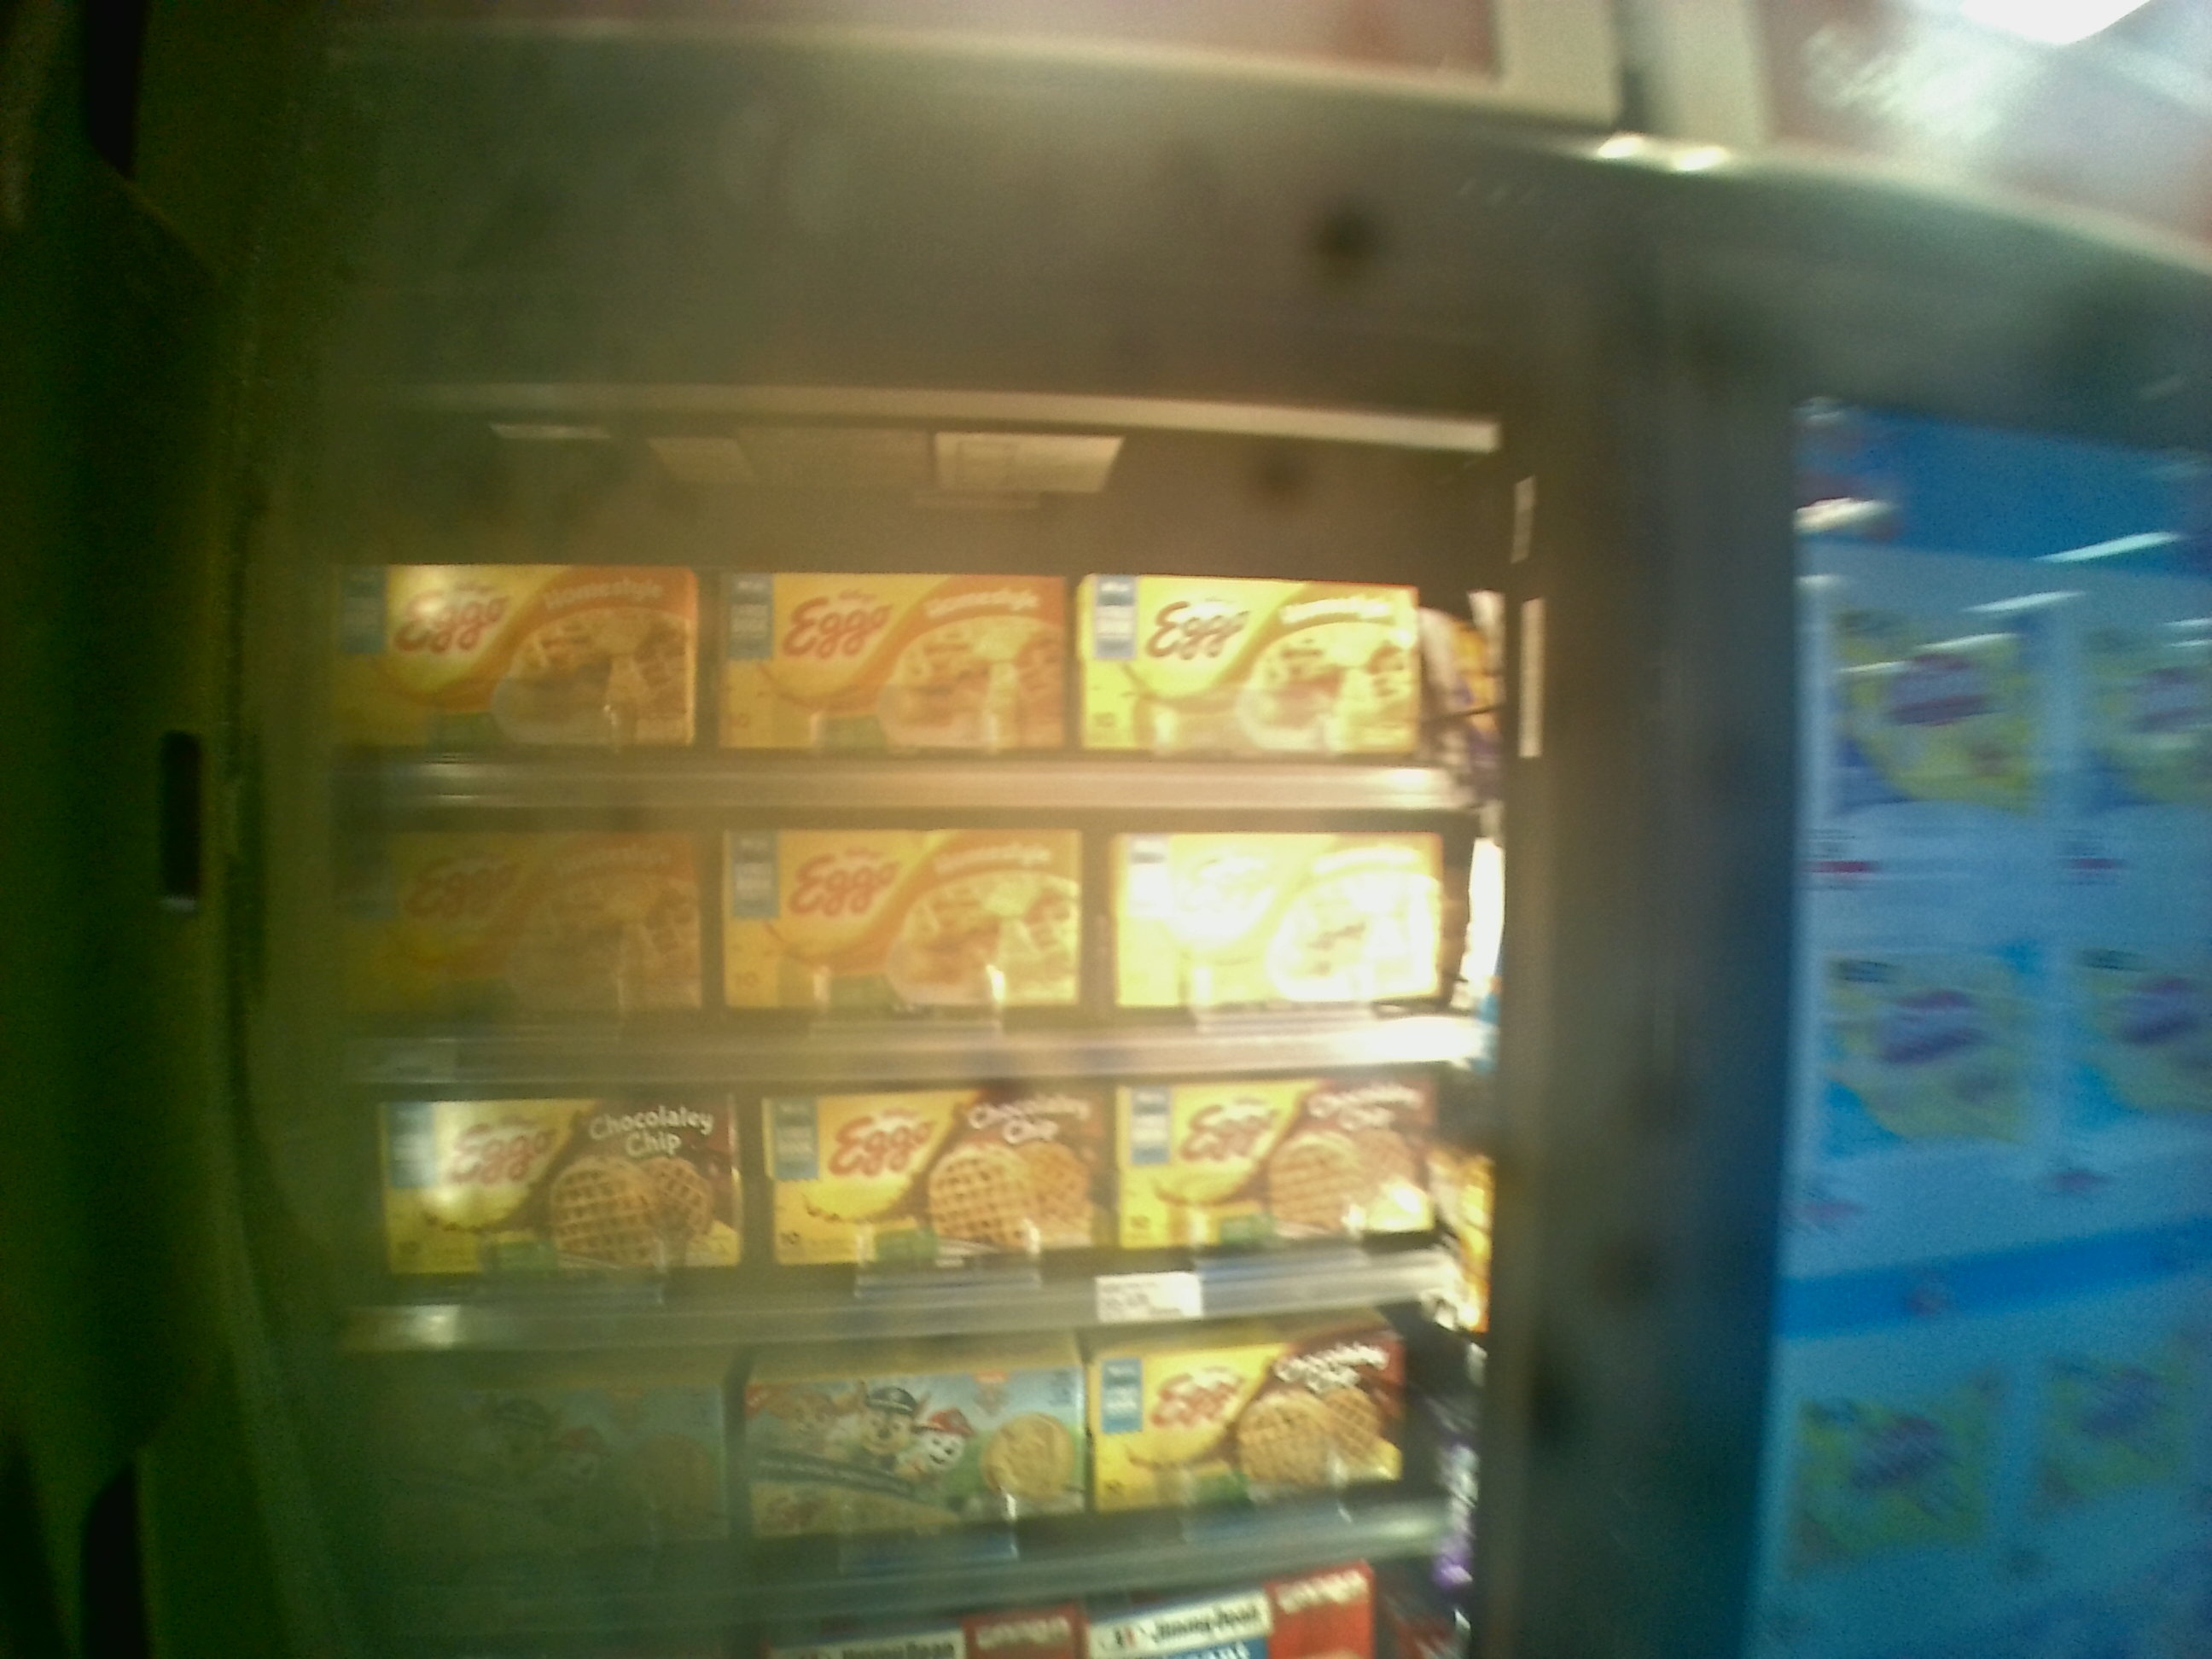shelf: (319, 443, 1458, 810), (340, 1049, 1493, 1349), (319, 817, 1496, 1035)
